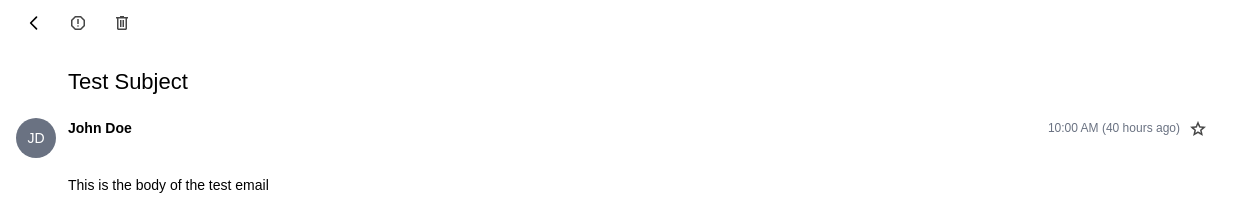
it: EmailDetail › Rendering › shows email details when header is clicked
Click on the header to expand details
Click the text "John Doe" at coordinates (100, 128), box [60,110,1216,146]
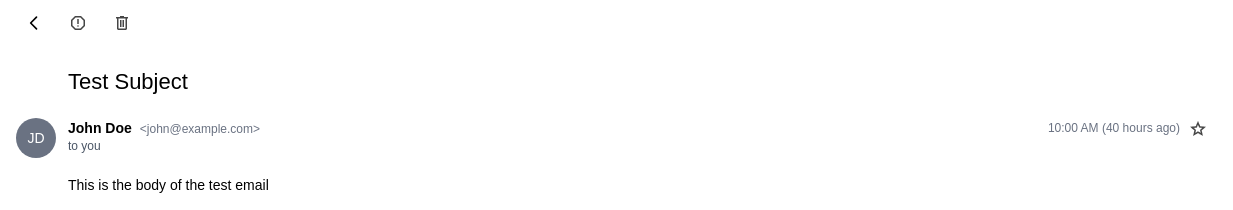
Expected: the text "<john@example.com>" is shown, [140,121,260,137]
Expected: the text "to you" is shown, [68,139,101,153]
